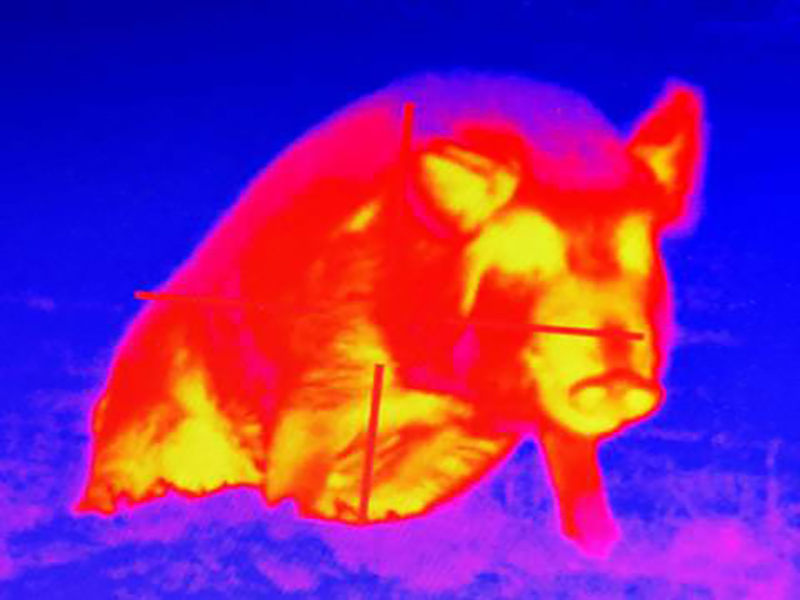cinghiale: (66, 72, 713, 512)
